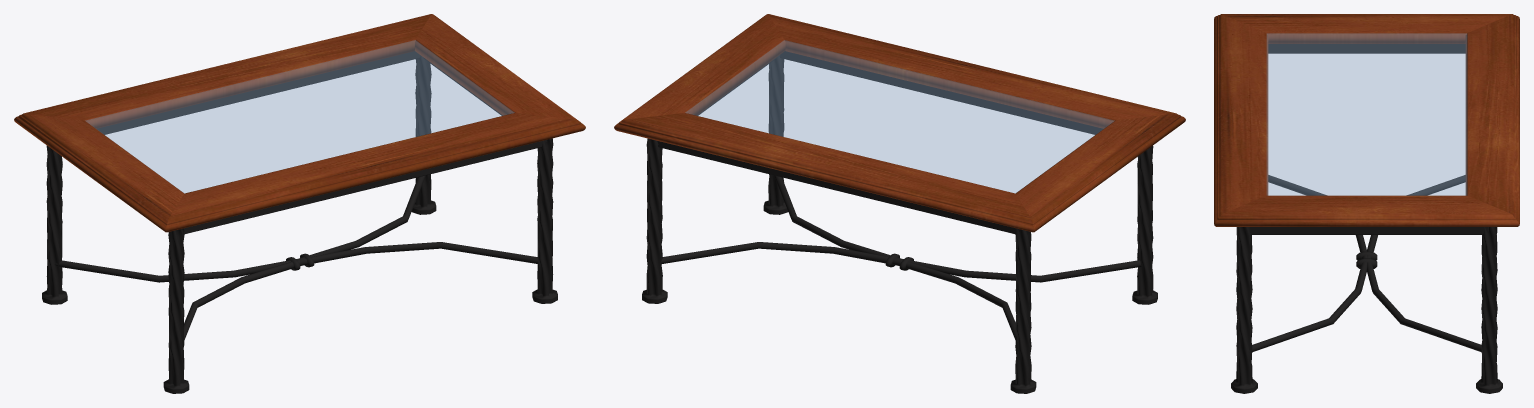
The model's file is mesa.obj.
3 views of the same model, side by side, from view 1: azimuth 30°, elevation 25°; view 2: azimuth 150°, elevation 25°; view 3: azimuth 270°, elevation 25° (orthographic).
Parts seen in each view (by area): view 1: 2, glass_Cube_1, 3; view 2: 2, glass_Cube_1, 3; view 3: 2, glass_Cube_1, 3.
Boxes of the visible parts, x1,y1,x2,y2 form: 2: [14, 14, 585, 232]; glass_Cube_1: [85, 40, 514, 193]; 3: [42, 51, 557, 393]; 2: [614, 14, 1185, 232]; glass_Cube_1: [685, 40, 1114, 193]; 3: [642, 51, 1157, 393]; 2: [1214, 14, 1519, 226]; glass_Cube_1: [1267, 33, 1466, 195]; 3: [1231, 44, 1502, 393].
Bounding box in the file's own units: 121 × 50.3 × 75.9.
3 materials, 1 textured.
